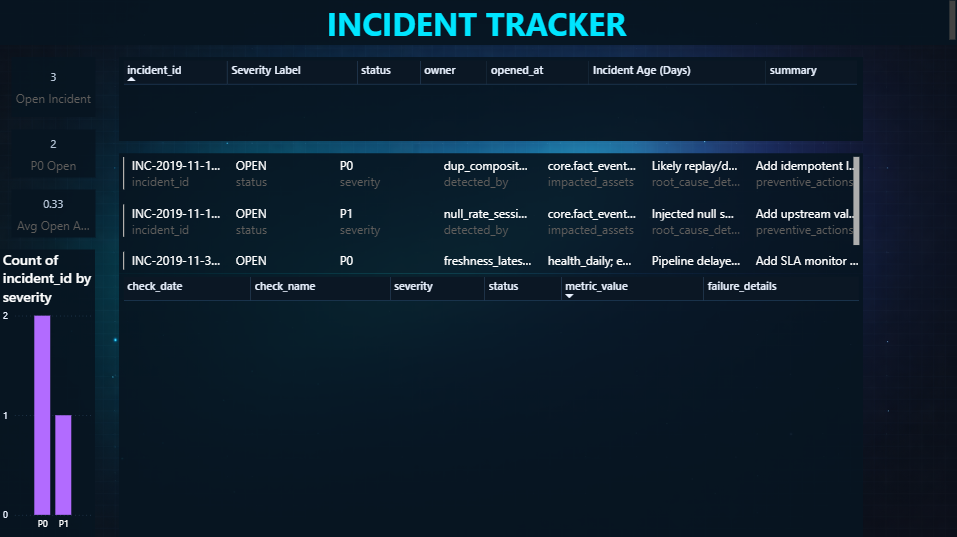

Layout of this report page (visuals, bound fields, positions):
{"tool":"powerbi","page":{"name":"Page 3","canvas":[1280,720],"ordinal":2},"visuals":[{"type":"textbox","box":[0,0,1280,64],"z":0},{"type":"card","fields":{"Values":["incidents.Open Incident"]},"box":[16,80,112,80],"z":1000},{"type":"card","fields":{"Values":["incidents.P0 Open"]},"box":[16,176,112,64],"z":2000},{"type":"card","fields":{"Values":["incidents.Avg Open Age (Days)"]},"box":[16,256,112,64],"z":3000},{"type":"tableEx","fields":{"Values":["check_results_with_incidents.incident_id","incidents.Severity Label","incidents.status","incidents.owner","incidents.opened_at","incidents.Incident Age (Days)","incidents.summary"]},"box":[160,80,992,112],"z":4000},{"type":"clusteredColumnChart","fields":{"Category":["incidents.severity"],"Y":["CountNonNull(incidents.incident_id)"]},"box":[0,336,128,384],"z":5000},{"type":"multiRowCard","fields":{"Values":["incidents.incident_id","incidents.status","incidents.severity","incidents.detected_by","incidents.impacted_assets","incidents.root_cause_details","incidents.preventive_actions"]},"box":[160,208,992,160],"z":6000},{"type":"tableEx","fields":{"Values":["check_results_with_incidents.check_date","check_results_with_incidents.check_name","check_results_with_incidents.severity","check_results_with_incidents.status","check_results_with_incidents.metric_value","check_results_with_incidents.failure_details"]},"box":[160,368,992,352],"z":7000}]}

Visuals, with their boxes in screenshot pixels (x1, y1, x2, y2), scaled from the page's 1280x720 canvas onto the 957x537 screenshot:
textbox: box=[0, 0, 956, 48]
card - incidents.Open Incident: box=[12, 60, 96, 119]
card - incidents.P0 Open: box=[12, 131, 96, 179]
card - incidents.Avg Open Age (Days): box=[12, 191, 96, 239]
tableEx - check_results_with_incidents.incident_id x incidents.Severity Label: box=[120, 60, 861, 143]
clusteredColumnChart - incidents.severity x CountNonNull(incidents.incident_id): box=[0, 251, 96, 536]
multiRowCard - incidents.incident_id x incidents.status: box=[120, 155, 861, 274]
tableEx - check_results_with_incidents.check_date x check_results_with_incidents.check_name: box=[120, 274, 861, 536]
